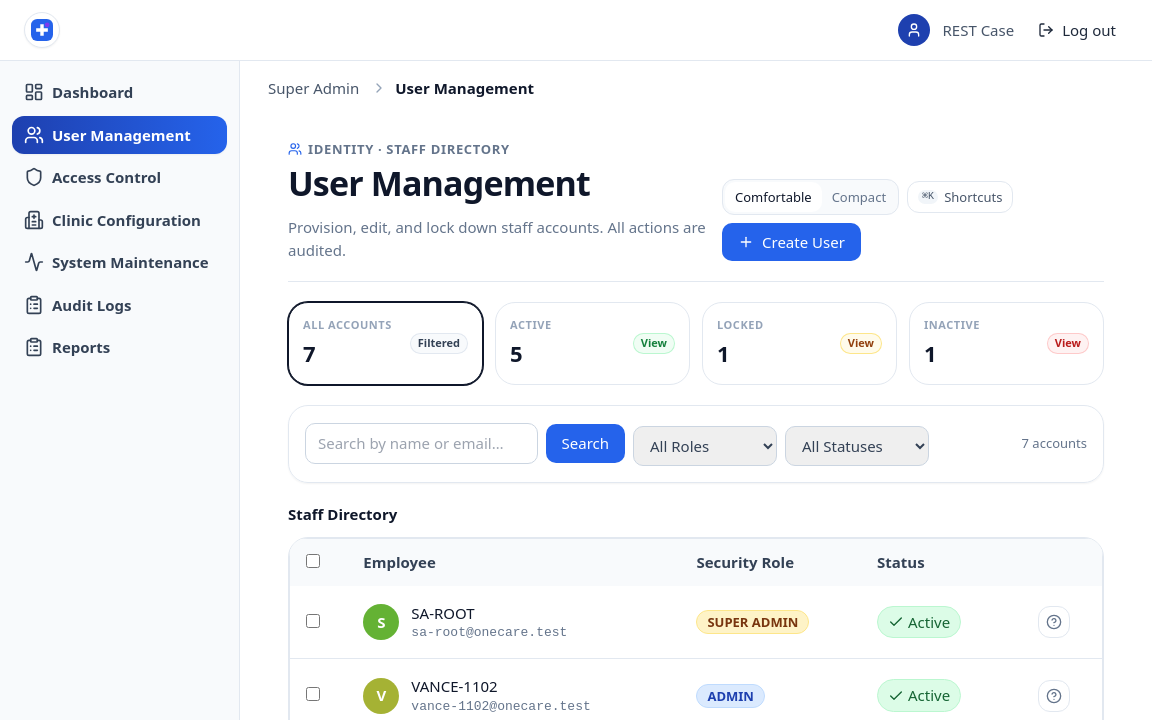
Test: super-admin user management — REST cases › deactivates an account optimistically after the confirm step
This screenshot has width=1152, height=720.
Click the button without text in the row of "vance-1102@onecare.test": (1054,696) [1038,680,1070,712]
(page scrolled)
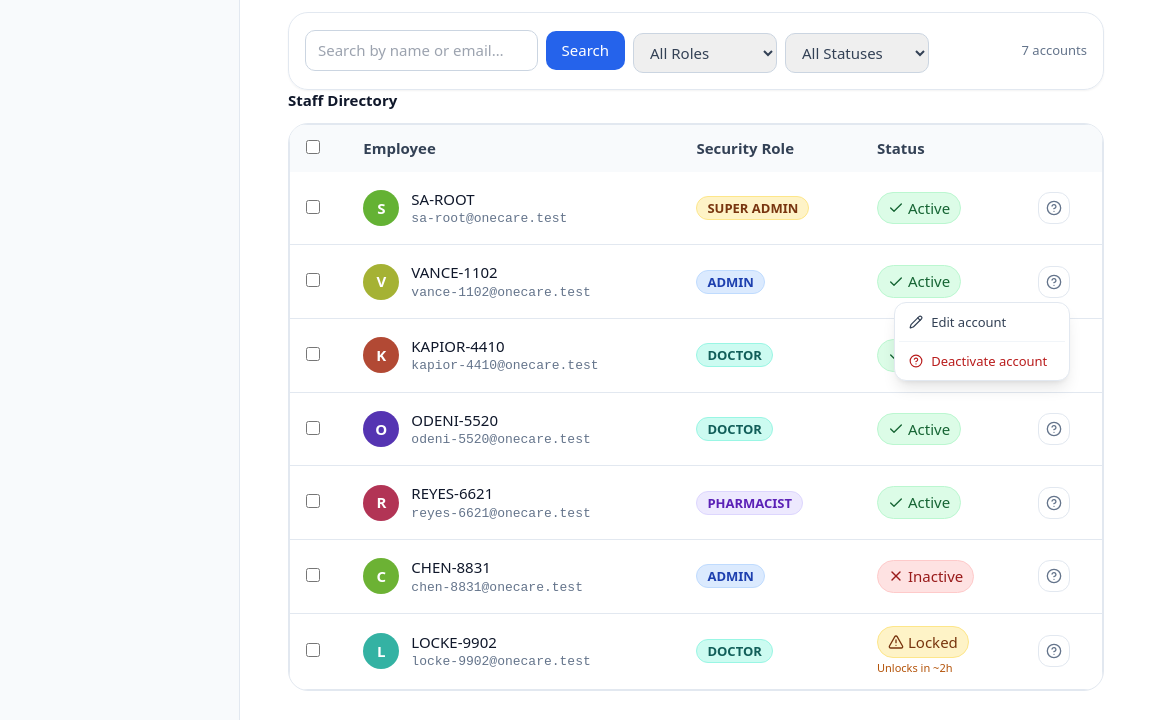
Check: the menu is shown, box [894,302,1070,381]
Click the button "Deactivate account": (982,361) [899,346,1065,376]
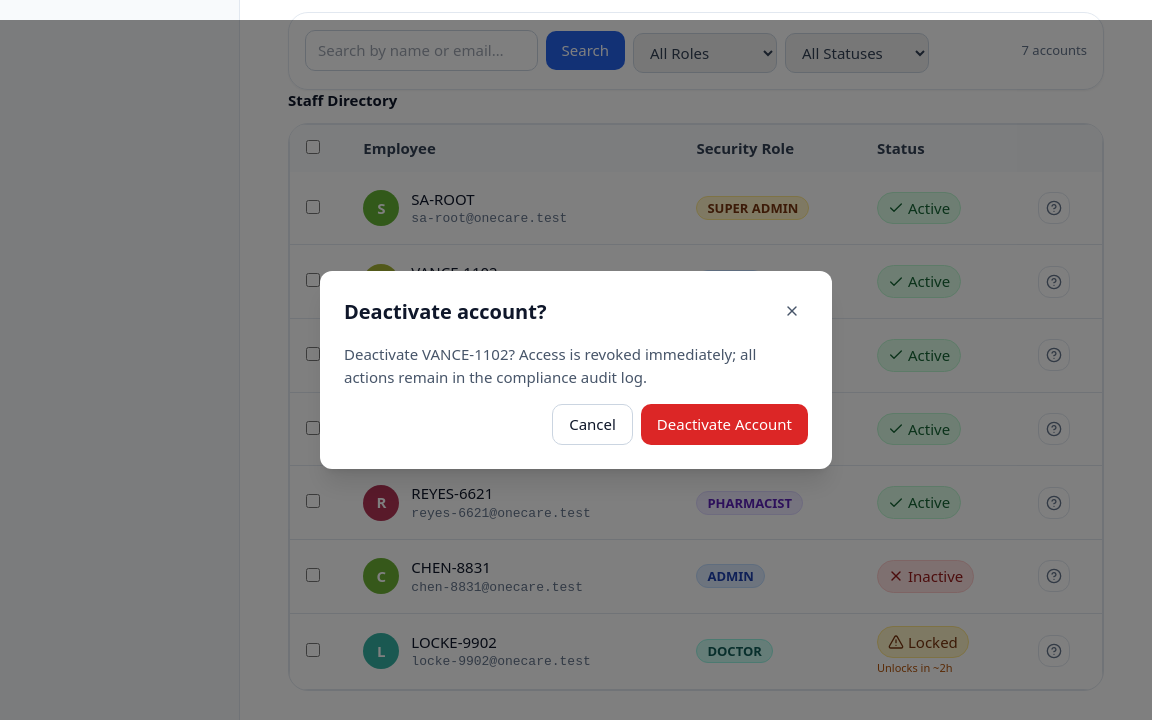
Check: the heading "Deactivate account?" is shown, box [344,296,546,327]
Click the button "Deactivate Account": (724,425) [641,404,808,445]
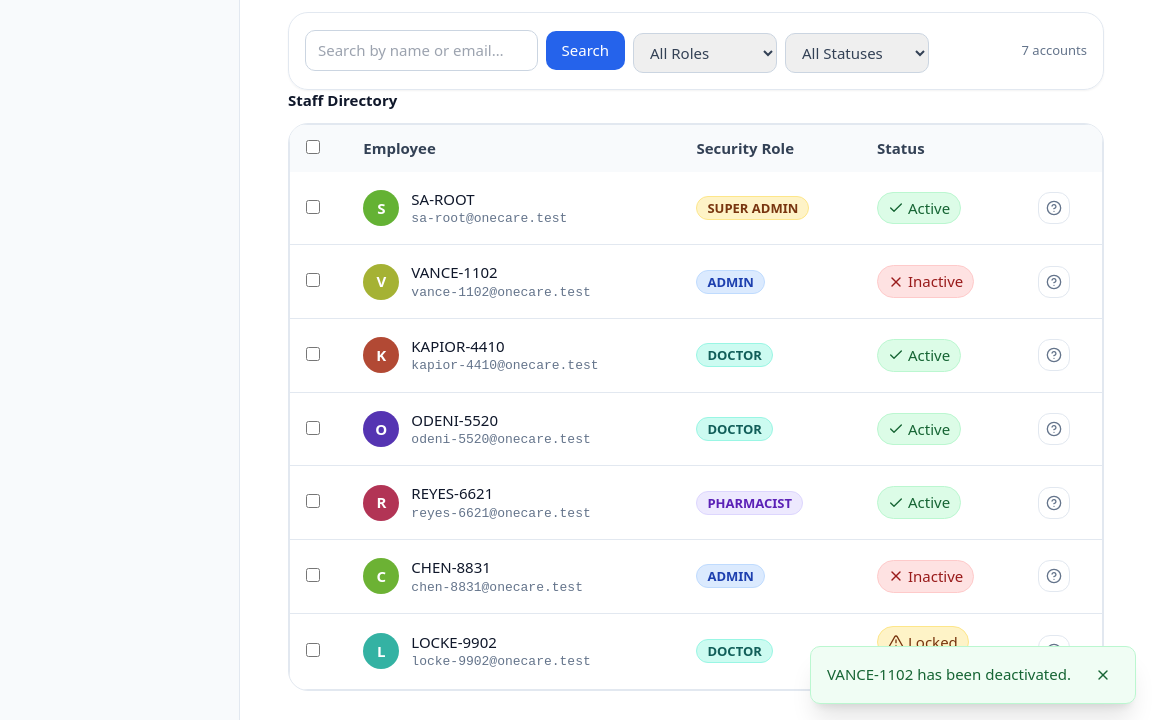
Check: the text "VANCE-1102 has been deactivated." is shown, box [827,663,1071,686]
Check: the text "Inactive" in the row of "vance-1102@onecare.test" is shown, box [908,271,963,291]
